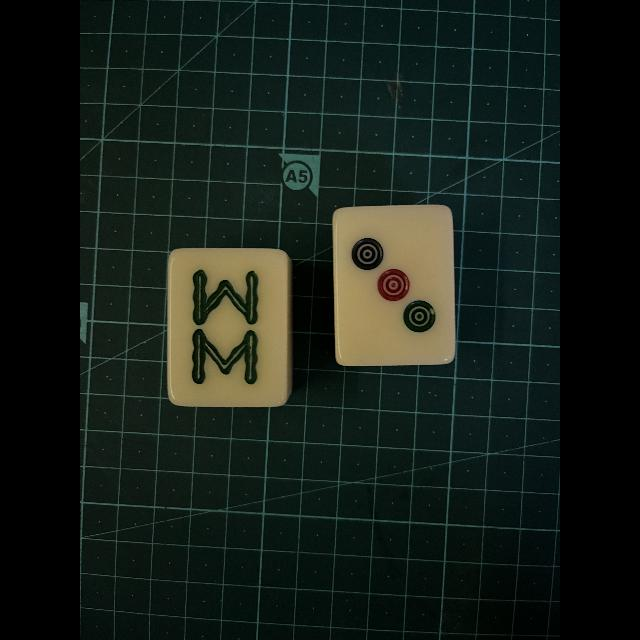b8: (170, 250, 284, 404)
d3: (336, 209, 452, 363)
